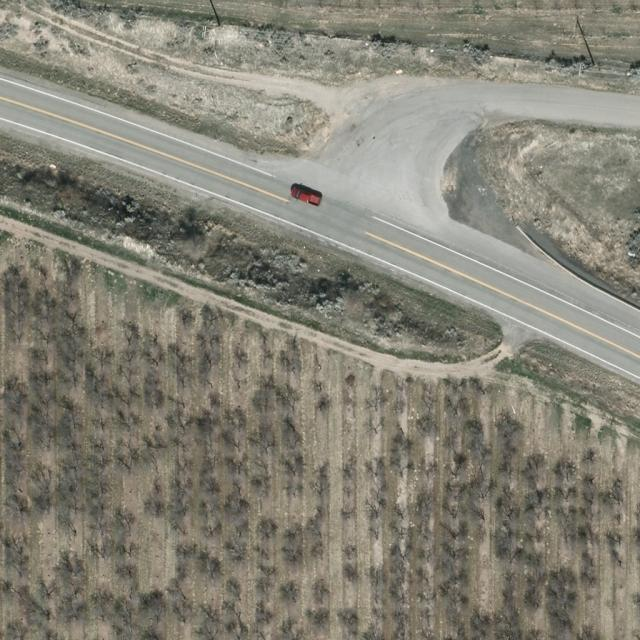vehicle: (290, 185, 322, 209)
